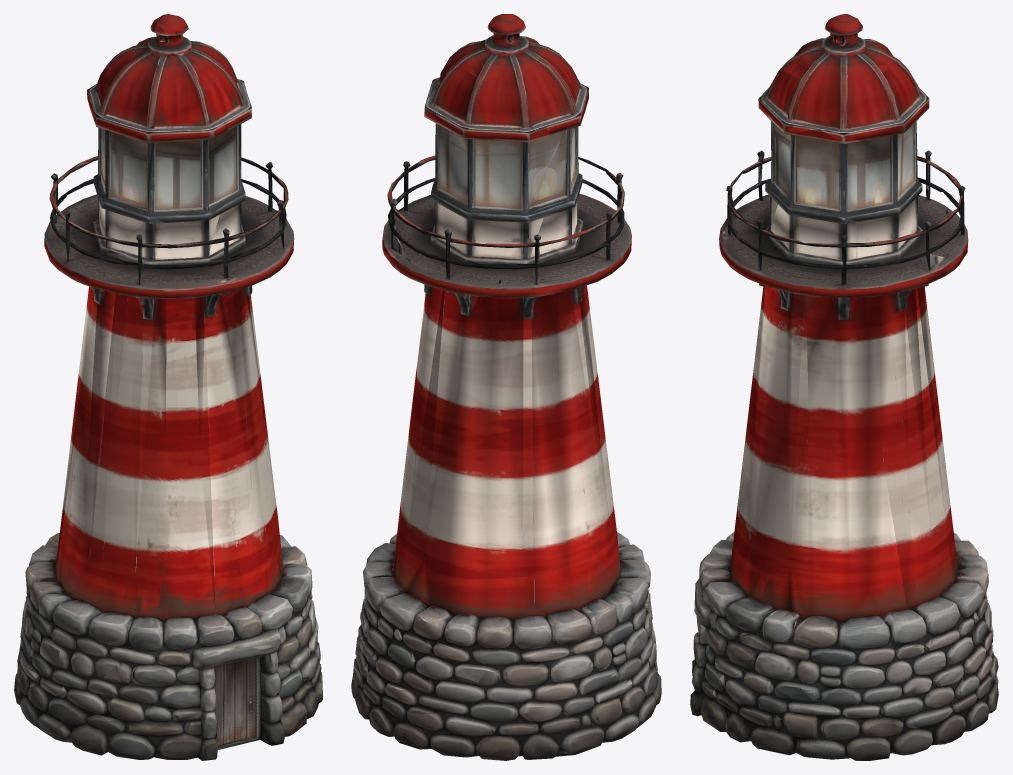
The model's file is Prop_Lighthouse.fbx.
The picture shows the model from 3 angles, left to right: view 1: azimuth 30°, elevation 25°; view 2: azimuth 150°, elevation 25°; view 3: azimuth 270°, elevation 25°; orthographic projection.
Visible parts, largest first — view 1: Mesh_0; view 2: Mesh_0; view 3: Mesh_0.
Part boxes in pixels (box(x1,y1,x2,y2)): Mesh_0: box(14, 14, 322, 760); Mesh_0: box(351, 14, 661, 760); Mesh_0: box(690, 14, 998, 760).
Size of the model in its own units: 78.24 by 190 by 78.12.
Materials: 1 (1 with a texture image).
